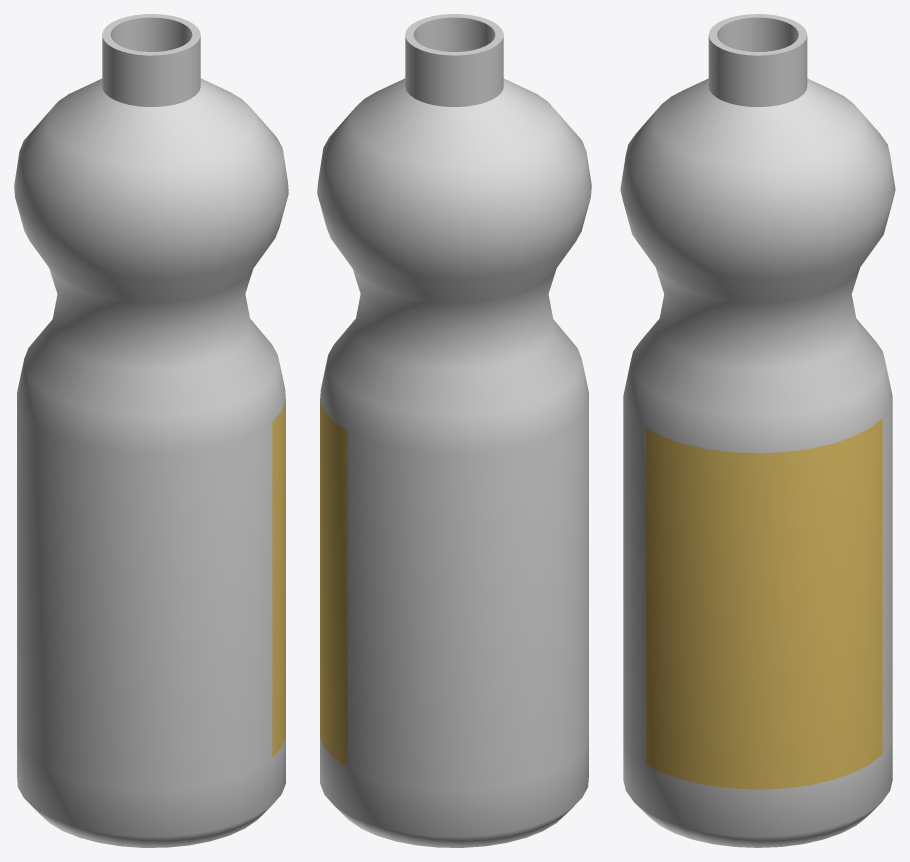
File: flasche plastik.fbx
3 views of the same model, side by side, from view 1: azimuth 30°, elevation 25°; view 2: azimuth 150°, elevation 25°; view 3: azimuth 270°, elevation 25° (orthographic).
Parts seen in each view (by area): view 1: Cylinder; view 2: Cylinder; view 3: Cylinder.
Boxes of the visible parts, x1,y1,x2,y2 form: Cylinder: (14,14,288,847); Cylinder: (317,14,591,847); Cylinder: (620,14,895,847).
Bounding box in the file's own units: 8.17 × 25 × 8.17.
